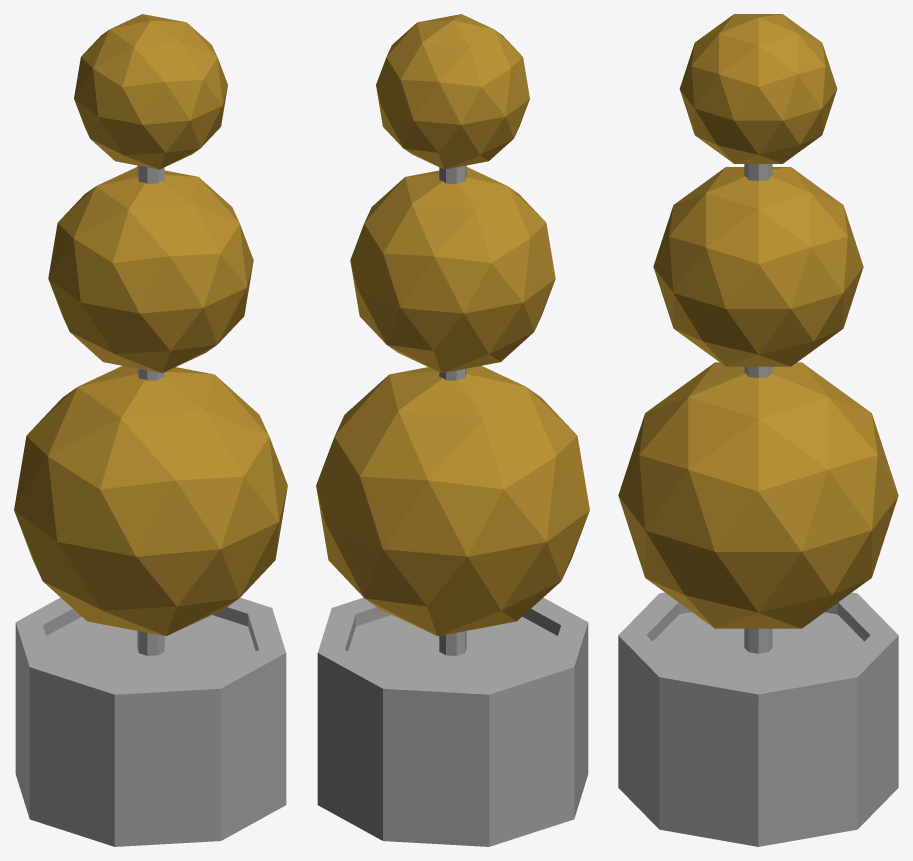
File: steampunk_apparatus_2.fbx
3 renders of one model, left to right at view 1: azimuth 30°, elevation 25°; view 2: azimuth 150°, elevation 25°; view 3: azimuth 270°, elevation 25°, orthographic.
Parts seen in each view (by area): view 1: Cylinder.025; view 2: Cylinder.025; view 3: Cylinder.025.
Part boxes in pixels (box(x1,y1,x2,y2)): Cylinder.025: box(14, 14, 287, 846); Cylinder.025: box(316, 14, 589, 846); Cylinder.025: box(618, 14, 898, 846).
Size of the model in its own units: 1 by 3.03 by 1.
